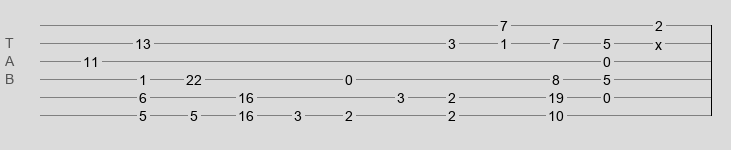0: (345, 72, 353, 82), (603, 54, 611, 64), (603, 90, 611, 100)
1: (139, 72, 147, 82), (500, 36, 508, 46)
10: (548, 108, 564, 118)
11: (83, 54, 99, 64)
13: (135, 36, 151, 46)
16: (238, 108, 254, 118), (238, 90, 254, 100)
19: (548, 90, 564, 100)
2: (345, 108, 353, 118), (448, 90, 456, 100), (448, 108, 456, 118), (655, 18, 663, 28)
22: (186, 72, 202, 82)
3: (294, 108, 302, 118), (397, 90, 405, 100), (448, 36, 456, 46)
5: (139, 108, 147, 118), (190, 108, 198, 118), (603, 72, 611, 82), (603, 36, 611, 46)
6: (139, 90, 147, 100)
7: (500, 18, 508, 28), (552, 36, 560, 46)
8: (552, 72, 560, 82)
x: (655, 37, 662, 45)
